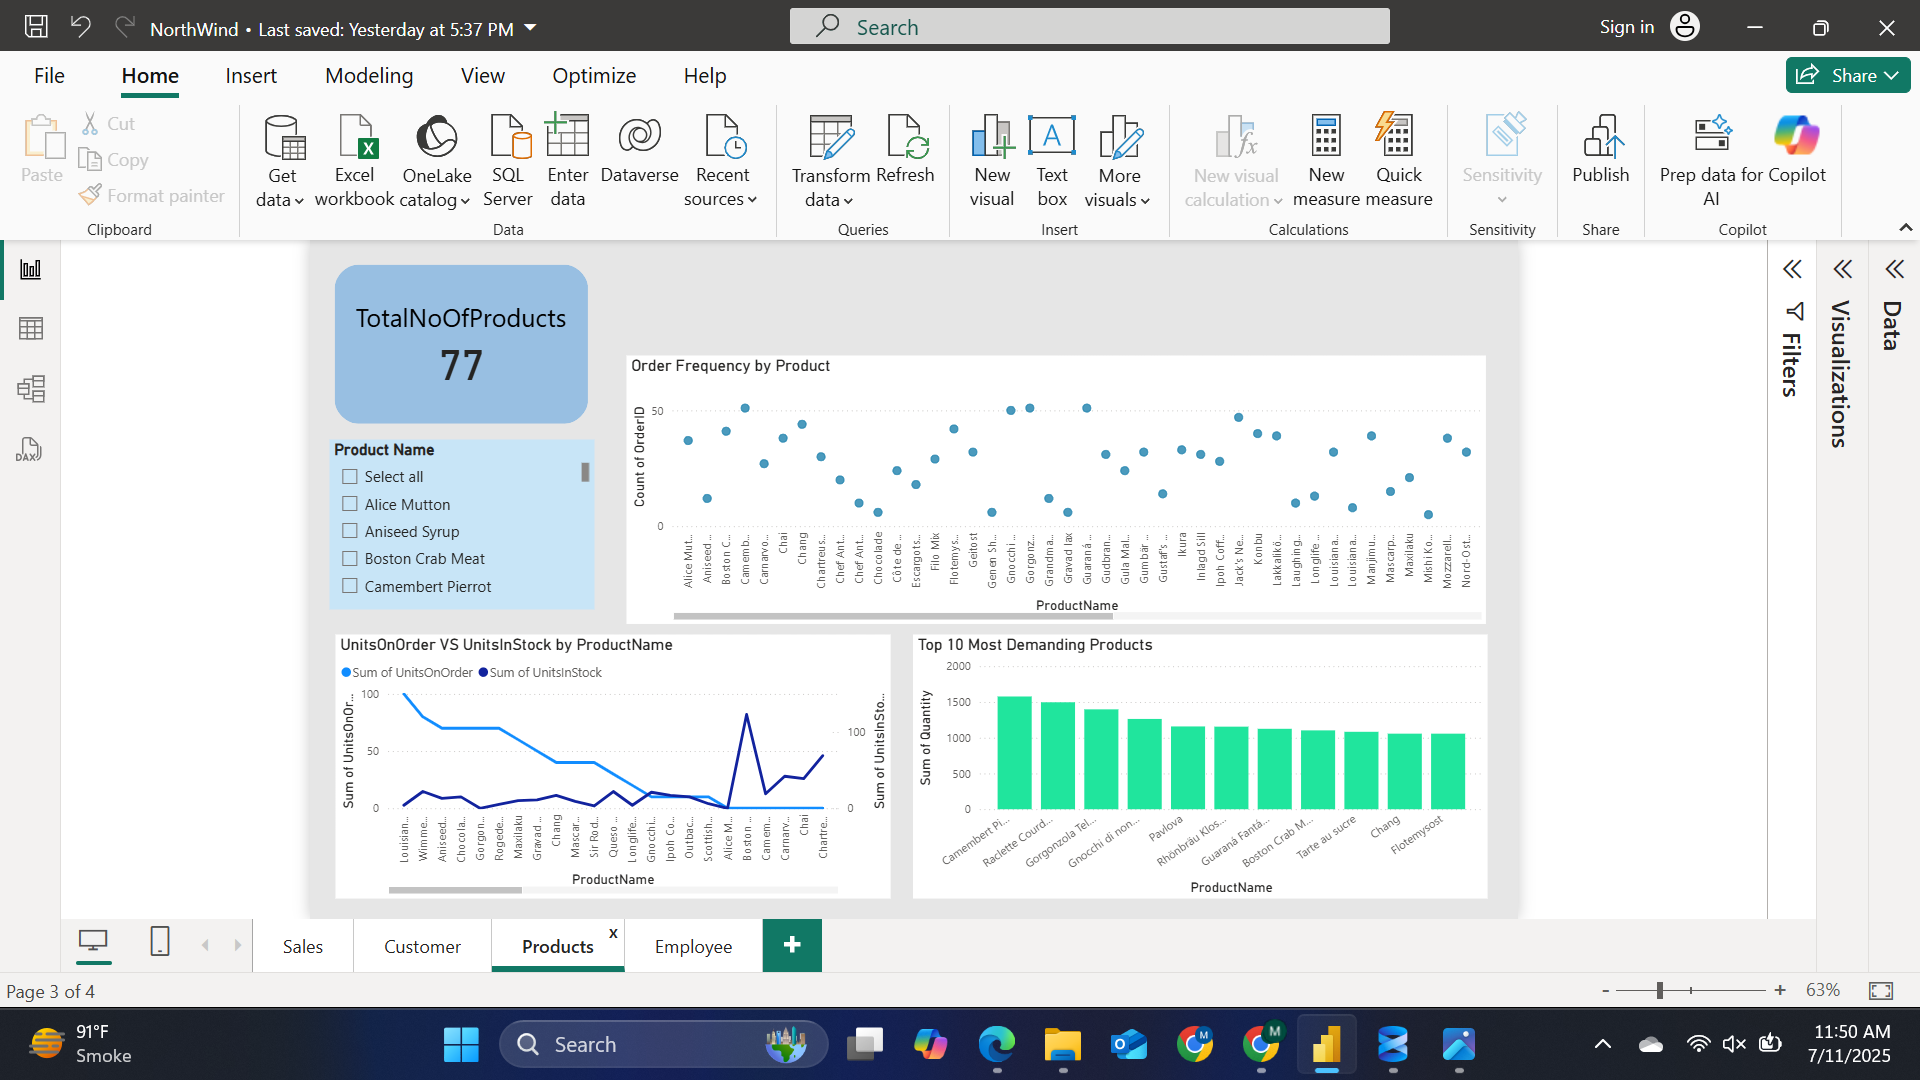

The page's visual inventory and layout, read from the dashboard file:
{"tool":"powerbi","page":{"name":"Products","canvas":[1280,720],"ordinal":2},"visuals":[{"type":"lineChart","title":"UnitsOnOrder VS UnitsInStock by ProductName","fields":{"Y2":["Sum(DimProducts.UnitsInStock)"],"Y":["Sum(DimProducts.UnitsOnOrder)"],"Category":["DimProducts.ProductName"]},"box":[27,418.3,588.5,279.9],"z":0},{"type":"cardVisual","title":"TotalSales","fields":{"Data":["DimProducts.TotalNoOfProducts"]},"box":[20.8,20.8,279.7,179.5],"z":1000},{"type":"slicer","title":"Product Name","fields":{"Values":["DimProducts.ProductName"]},"box":[21,211,280,180],"z":2000},{"type":"columnChart","title":"Top 10 Most Demanding Products","fields":{"Category":["DimProducts.ProductName"],"Y":["Sum(fact_orders.Quantity)"]},"box":[639.4,418.3,609.2,279.9],"z":3000},{"type":"scatterChart","title":"Order Frequency by Product","fields":{"X":["DimProducts.ProductName"],"Y":["CountNonNull(fact_orders.OrderID)"]},"box":[335.6,122.5,911.4,284.7],"z":4000}]}

Visuals, with their boxes on the page's 1280x720 design canvas (x1, y1, x2, y2). These are canvas units, not pixel positions in the 1920x1080 screenshot, which may show the page scaled, cropped or inside an application window:
"UnitsOnOrder VS UnitsInStock by ProductName" lineChart: bbox=(27, 418, 616, 698)
"TotalSales" cardVisual: bbox=(21, 21, 300, 200)
"Product Name" slicer: bbox=(21, 211, 301, 391)
"Top 10 Most Demanding Products" columnChart: bbox=(639, 418, 1249, 698)
"Order Frequency by Product" scatterChart: bbox=(336, 122, 1247, 407)
